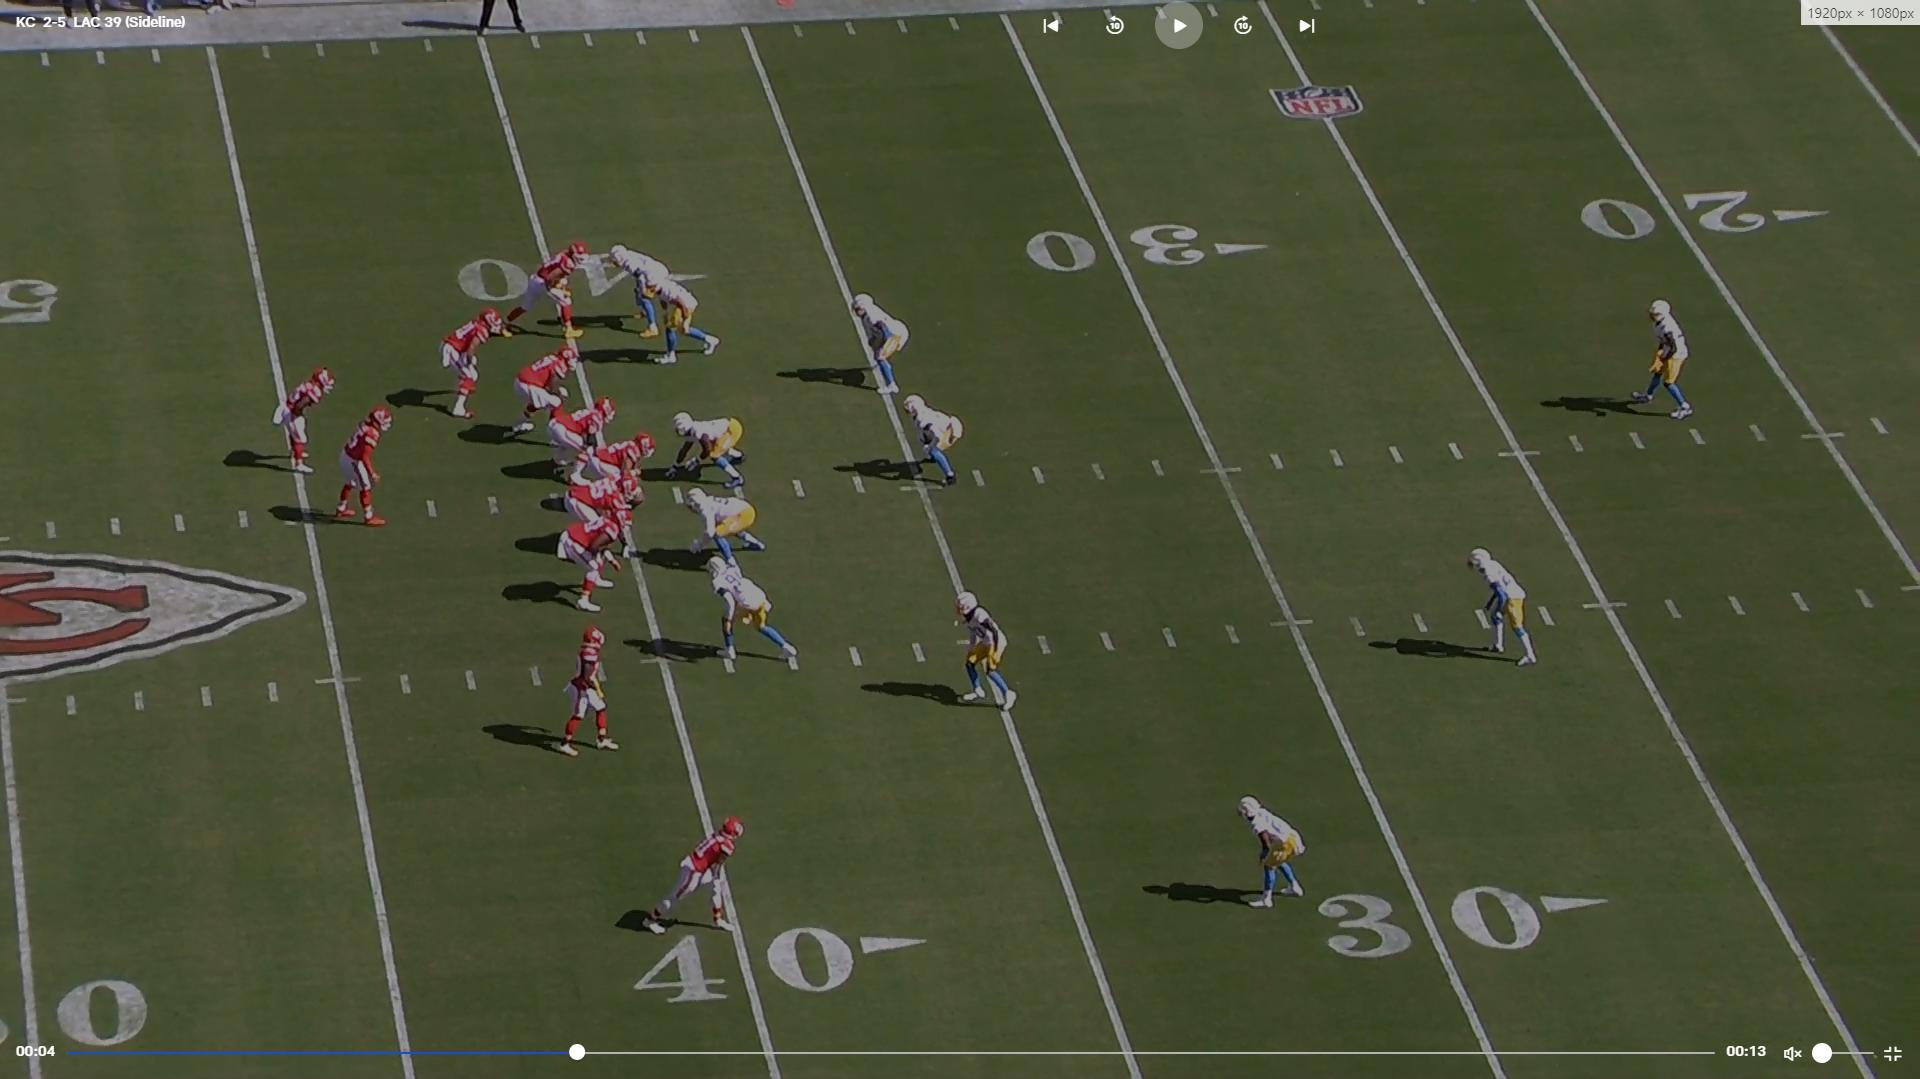defense: (696, 551, 798, 671), (1466, 547, 1539, 674), (1238, 790, 1309, 915), (952, 590, 1018, 714), (1636, 292, 1698, 423), (642, 270, 723, 371), (849, 293, 910, 406), (675, 485, 765, 562), (601, 241, 674, 331), (903, 390, 968, 488), (670, 413, 753, 488)
oline: (560, 497, 634, 612), (558, 468, 638, 561), (518, 346, 584, 445), (545, 396, 613, 471), (584, 437, 657, 500)
qb: (328, 398, 394, 528)
skill: (640, 817, 750, 940), (554, 624, 621, 764), (498, 243, 587, 340), (436, 306, 504, 422), (277, 367, 340, 480)
